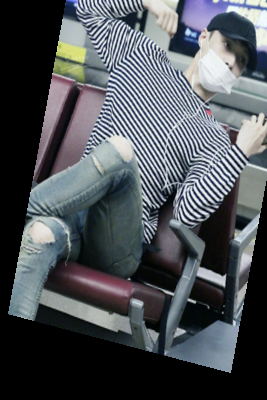mask_weared_incorrect: (188, 6, 262, 97)
